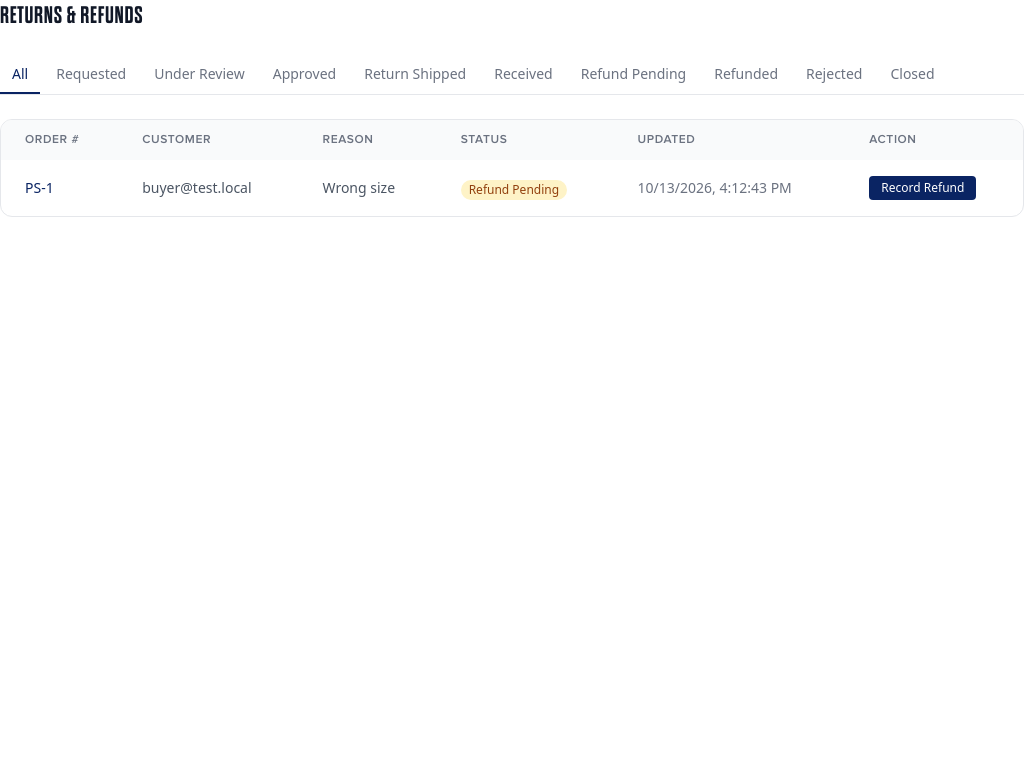
Scenario: AdminReturns — refund scope banner › reports a positive partial amount below the attributable total as partially refunded
Click the button "Record Refund": (923, 188) x1=869 y1=176 x2=976 y2=200
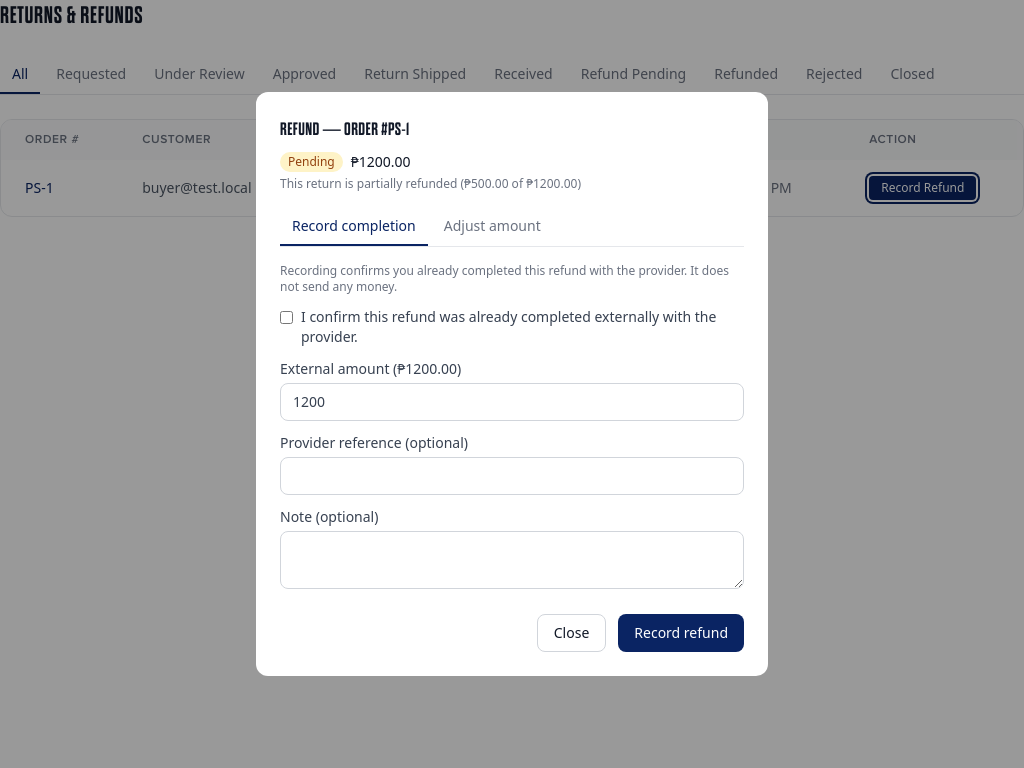
Expected: the heading "Refund — Order #PS-1" is shown, x1=280 y1=119 x2=410 y2=140
Expected: the text with test id "refund-scope-banner" shows "partially refunded", x1=357 y1=175 x2=581 y2=192
Expected: the text with test id "refund-scope-banner" shows "₱500.00 of ₱1200.00", x1=357 y1=175 x2=581 y2=192
